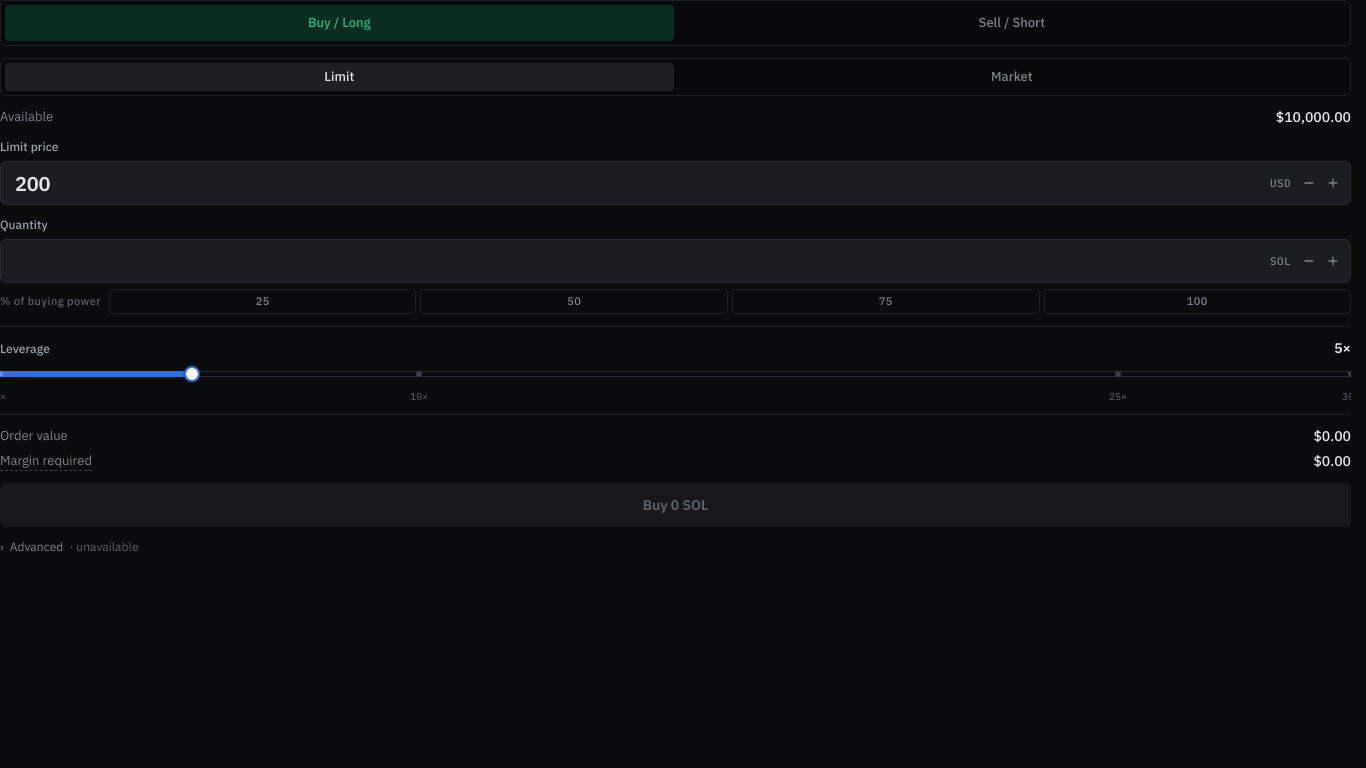
Test: submitting an order › reports a partial fill as partial, with the quantity that filled
Check: the text "$10,000.00" is shown, box [1276,108,1351,127]
Step 1. Type "2" into the field labelled "Quantity" → (676, 261), box [0,239,1351,283]
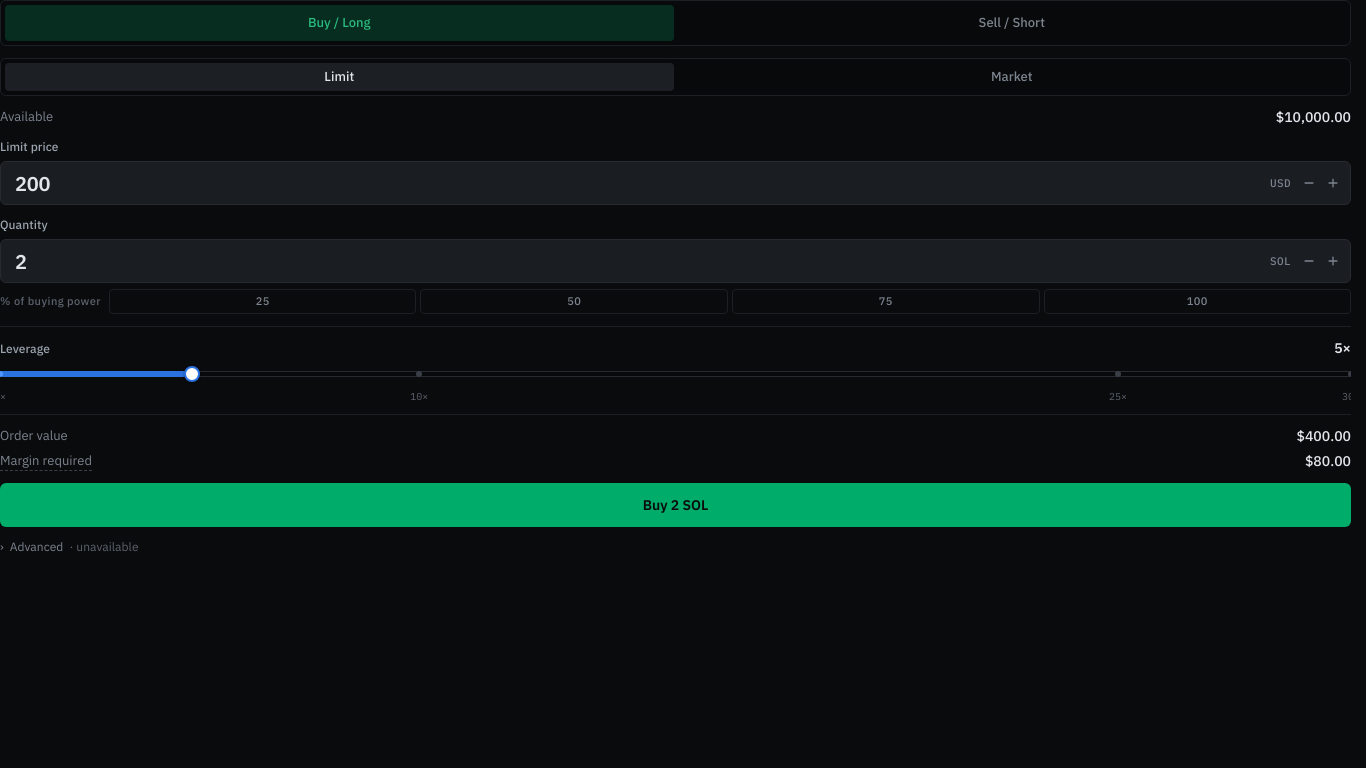
Step 2. Click the button "Buy 2 SOL" → (676, 505), box [0,483,1351,527]
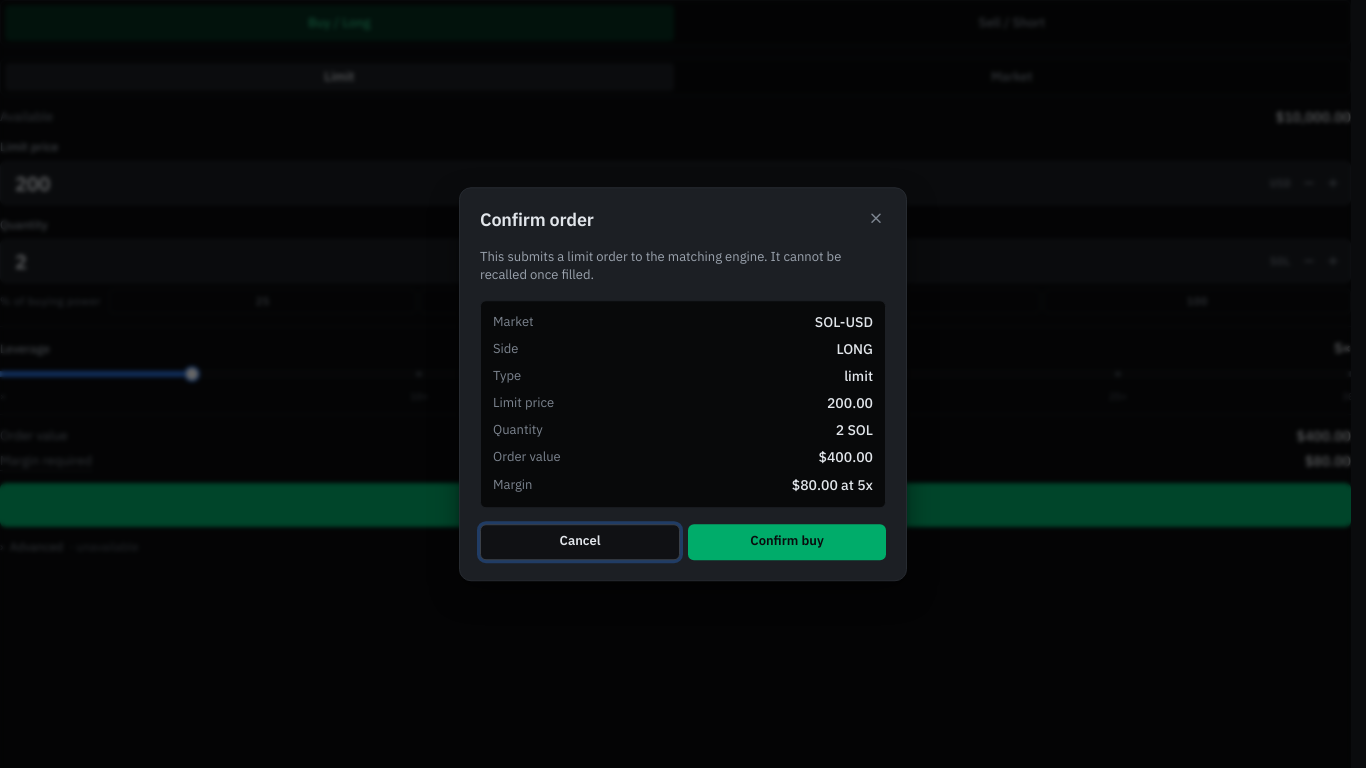
Check: the button "Confirm buy" is shown
Step 3. Click the button "Confirm buy" → (787, 542), box [688,524,886,560]
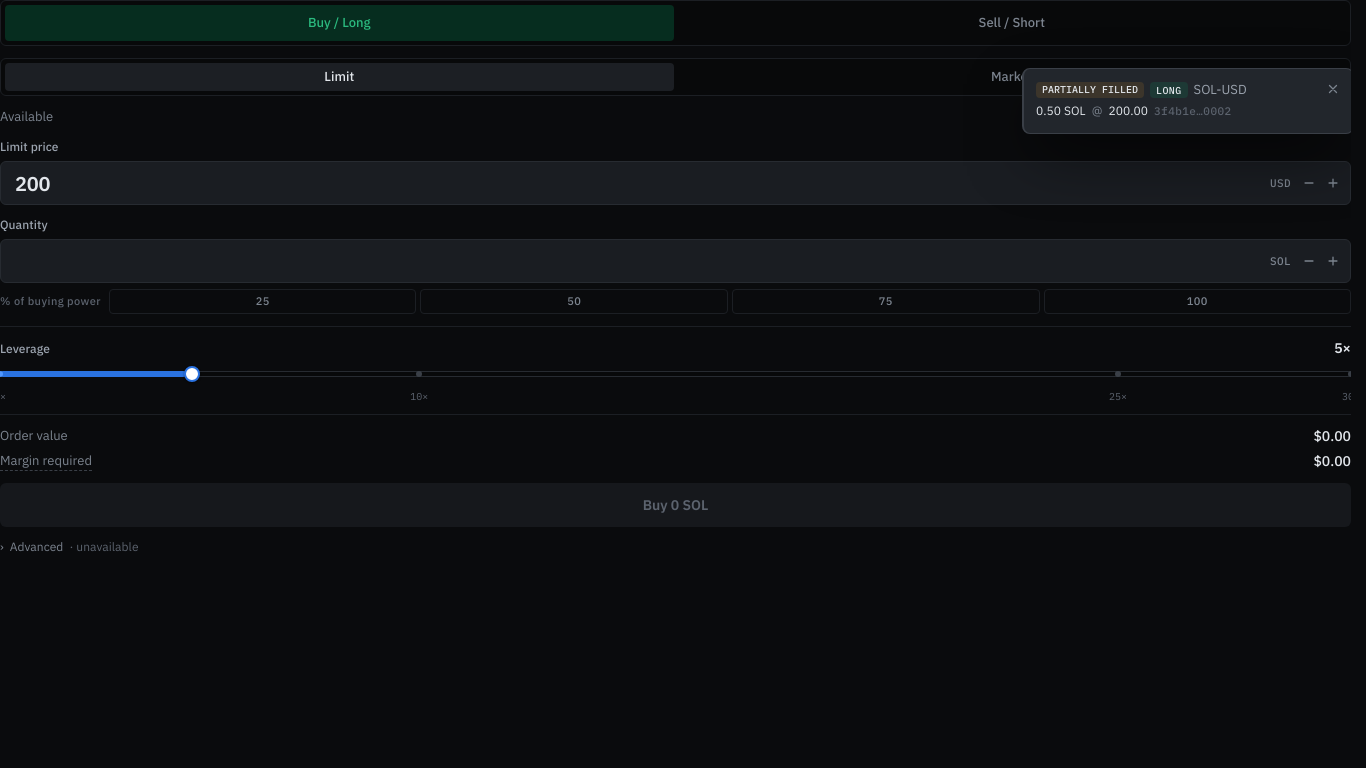
Check: the text "Partially filled" is shown, box [1036,82,1144,98]
Check: the text "0.50 SOL" is shown, box [1036,101,1086,121]
